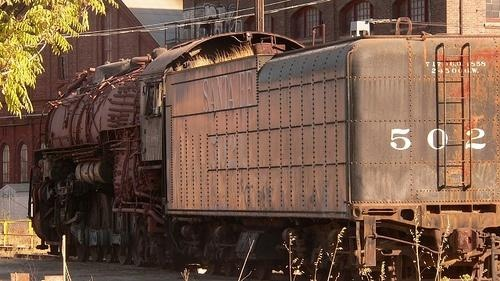train: (31, 34, 500, 281)
